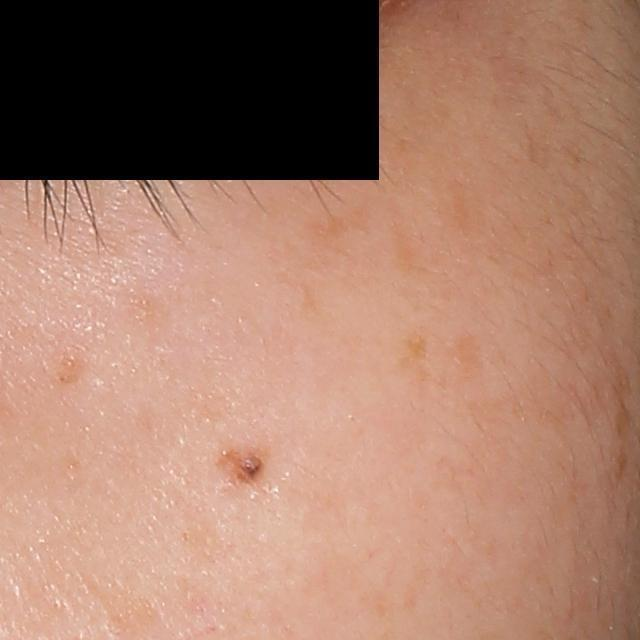melasma: (298, 201, 376, 246), (388, 209, 436, 277), (393, 325, 436, 390), (610, 355, 635, 444), (451, 325, 489, 377), (58, 347, 87, 387)
nevus: (213, 442, 275, 487)
